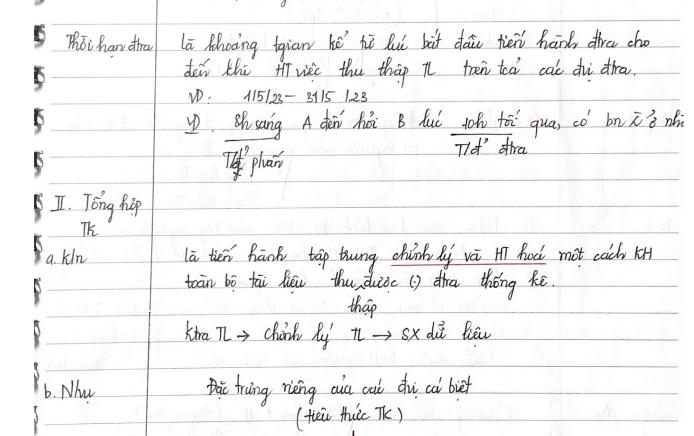text: (179, 26, 652, 62), (182, 240, 656, 274), (182, 56, 638, 90), (231, 107, 686, 141), (185, 268, 555, 302), (181, 318, 492, 353), (204, 372, 474, 408), (47, 189, 144, 225), (187, 88, 369, 107), (294, 402, 404, 433), (62, 30, 155, 59), (221, 144, 286, 182), (452, 135, 529, 159), (40, 377, 97, 406), (44, 247, 89, 267), (346, 294, 377, 320), (184, 112, 203, 135), (79, 221, 99, 240)
